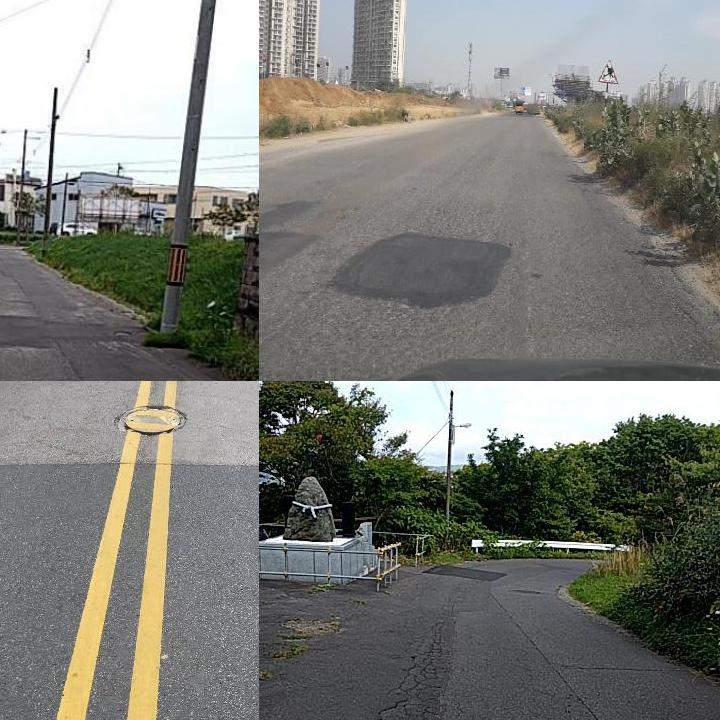Retak Buaya: (352, 612, 455, 720)
Sambungan: (0, 464, 259, 720), (328, 227, 511, 311), (0, 319, 128, 347), (423, 563, 509, 585)
